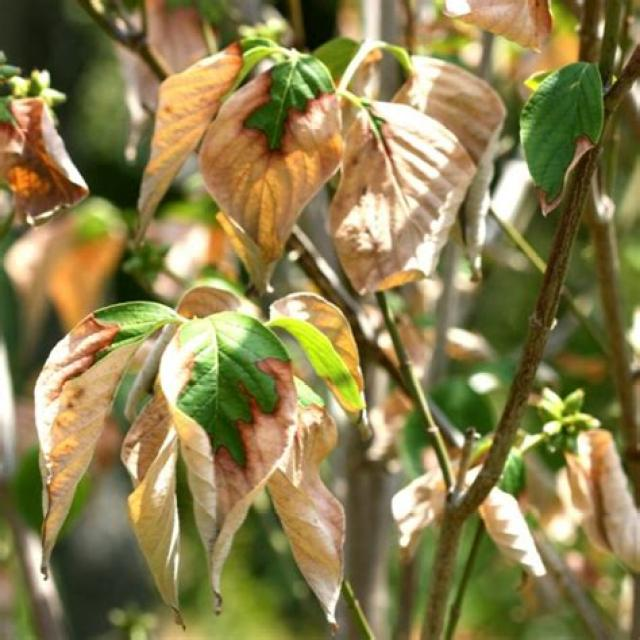blight: (198, 74, 349, 224), (211, 346, 303, 558), (523, 84, 601, 239)
